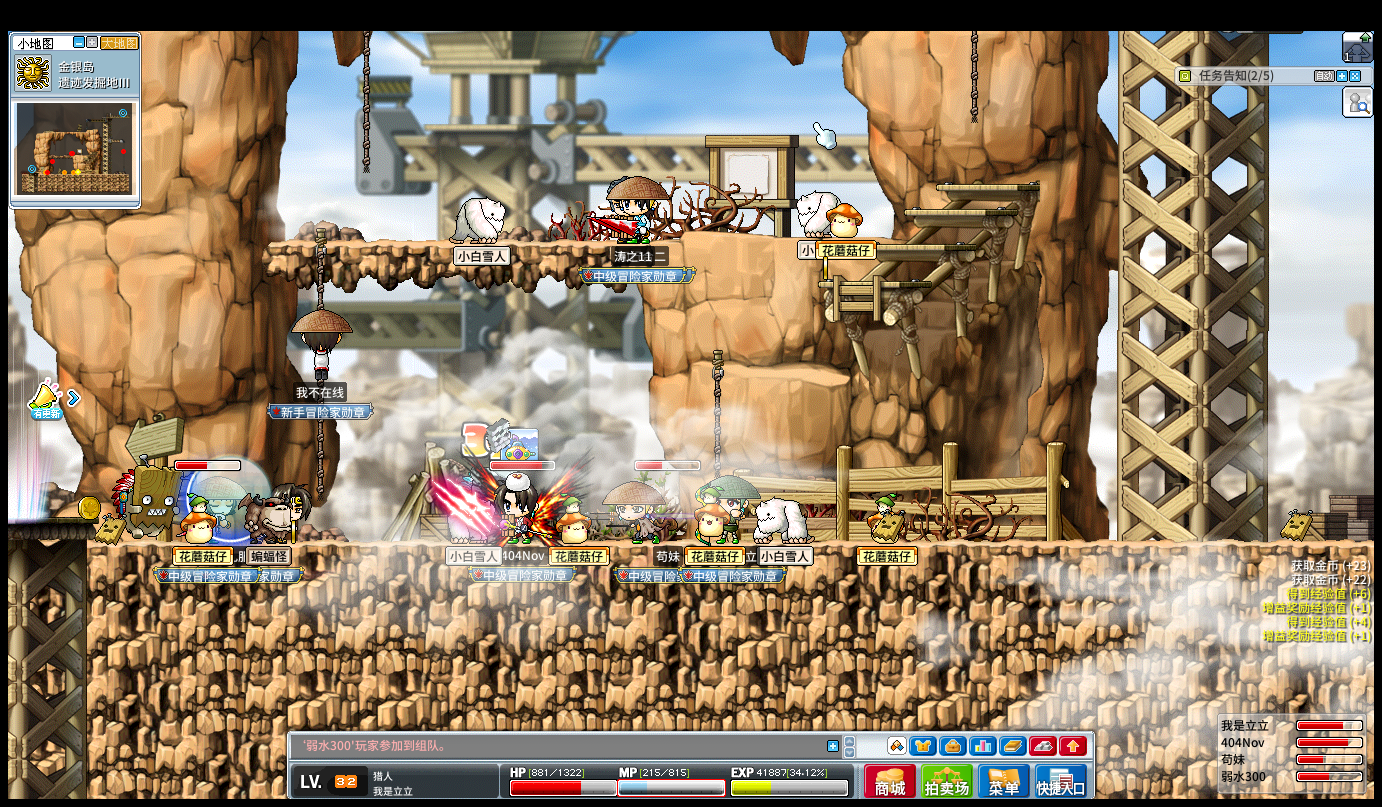floor: (263, 238, 648, 248), (740, 364, 852, 384), (756, 232, 902, 240), (903, 205, 1016, 215), (812, 280, 930, 289), (863, 243, 973, 251), (9, 515, 100, 524), (902, 207, 1014, 214), (935, 184, 1038, 191)
monster: (112, 460, 189, 540)
rope: (709, 348, 722, 475), (359, 30, 369, 176), (313, 227, 325, 309), (968, 29, 978, 121), (314, 421, 324, 502)
